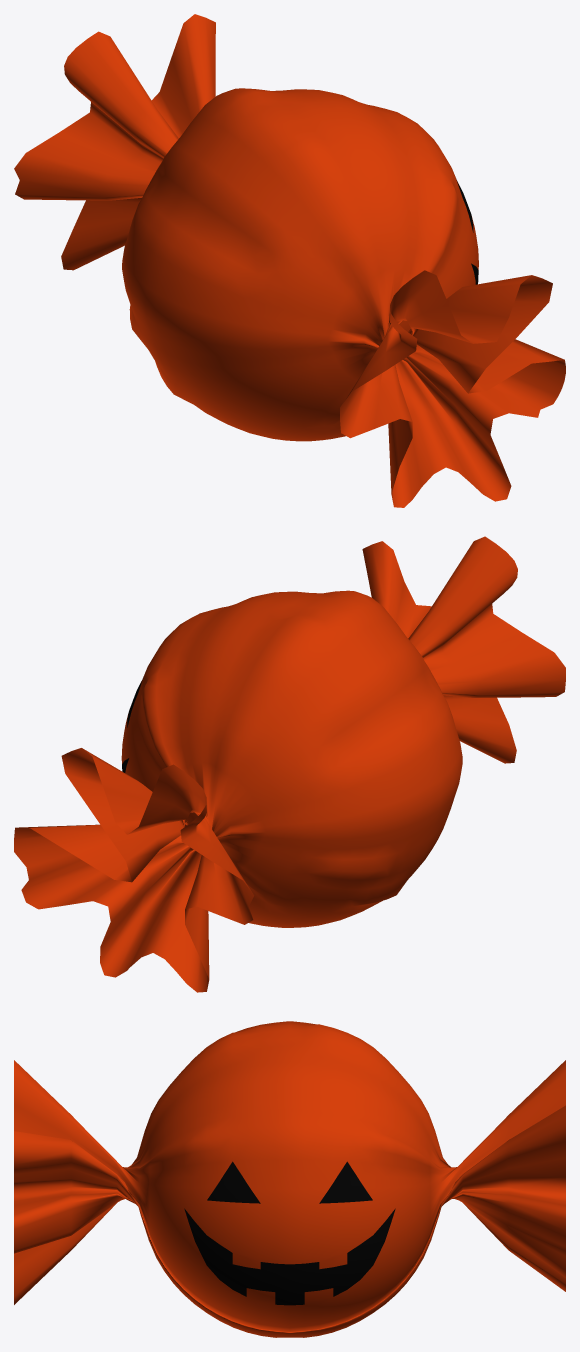
Rendered from HalloweenCandy.fbx.
3 views of the same model, one above another, from view 1: azimuth 30°, elevation 25°; view 2: azimuth 150°, elevation 25°; view 3: azimuth 270°, elevation 25° (orthographic). The views are drawn at different scales.
Visible parts, largest first — view 1: Envoltorio; view 2: Envoltorio; view 3: Envoltorio.
Boxes of the visible parts, x1,y1,x2,y2 form: Envoltorio: (14,14,565,507); Envoltorio: (14,536,565,992); Envoltorio: (14,1021,565,1337).
Size of the model in its own units: 238 by 240 by 432.
